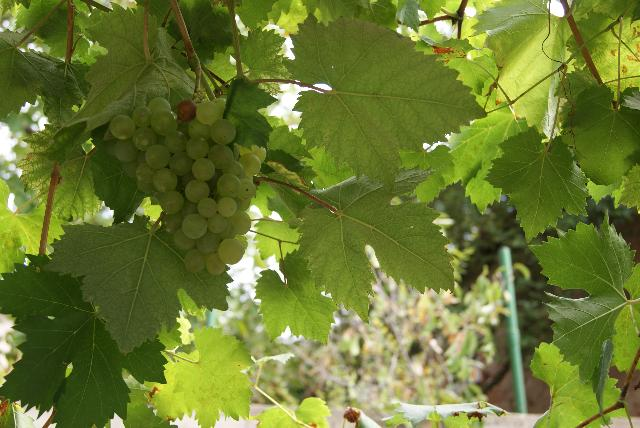grapes: (106, 98, 266, 275)
